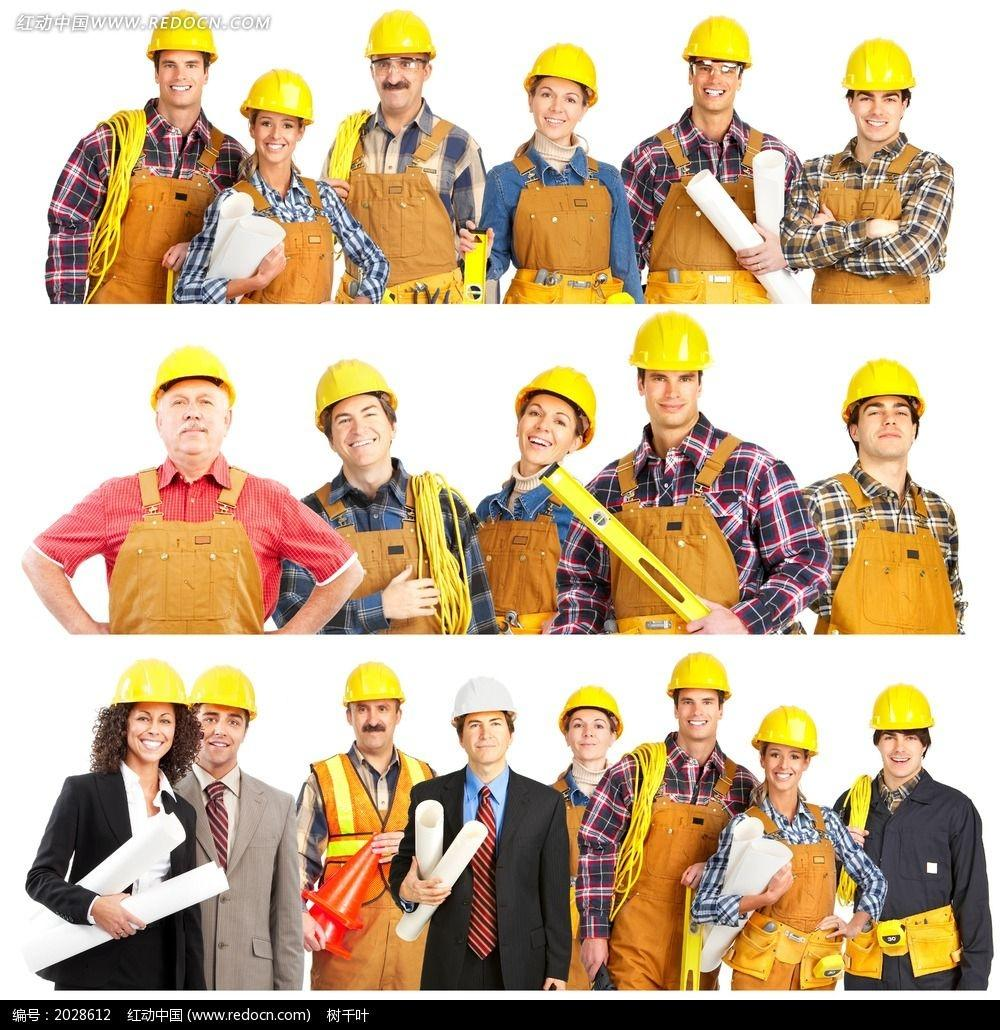helmet: (307, 360, 401, 427), (150, 346, 240, 409), (626, 314, 714, 378), (514, 366, 600, 429), (841, 360, 926, 416), (841, 38, 918, 98), (111, 658, 191, 714), (525, 41, 603, 98), (239, 66, 317, 122), (363, 7, 437, 63), (681, 14, 755, 68), (870, 681, 940, 735), (144, 8, 218, 59), (192, 665, 261, 718), (754, 705, 824, 756), (666, 653, 734, 699), (342, 661, 407, 709), (451, 674, 517, 720), (560, 682, 626, 728)
no_wear: (579, 450, 821, 634), (97, 466, 287, 637), (77, 117, 241, 304), (294, 473, 470, 633), (417, 775, 568, 951), (343, 110, 481, 293), (612, 746, 745, 926), (634, 120, 786, 274), (796, 143, 956, 286), (63, 780, 190, 960), (177, 769, 296, 959), (820, 473, 951, 633), (206, 176, 349, 300), (493, 157, 621, 294), (471, 486, 591, 629), (727, 813, 841, 956)
wear: (309, 758, 415, 949), (847, 782, 972, 935)
